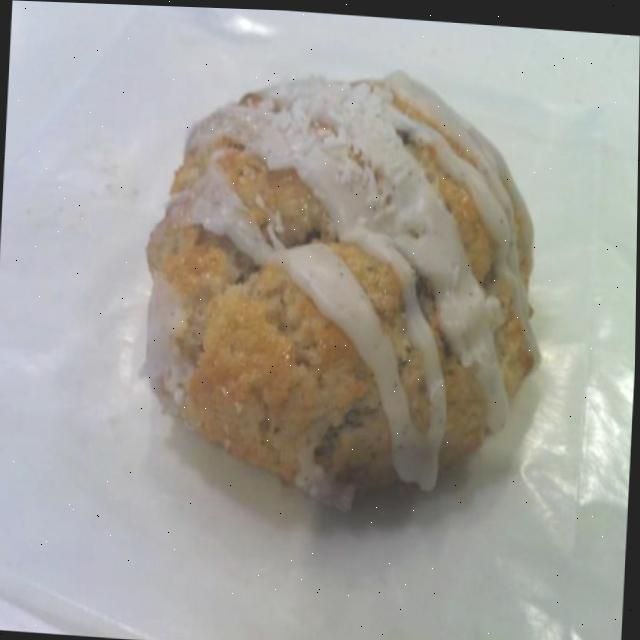面包点心: (132, 38, 564, 548)
